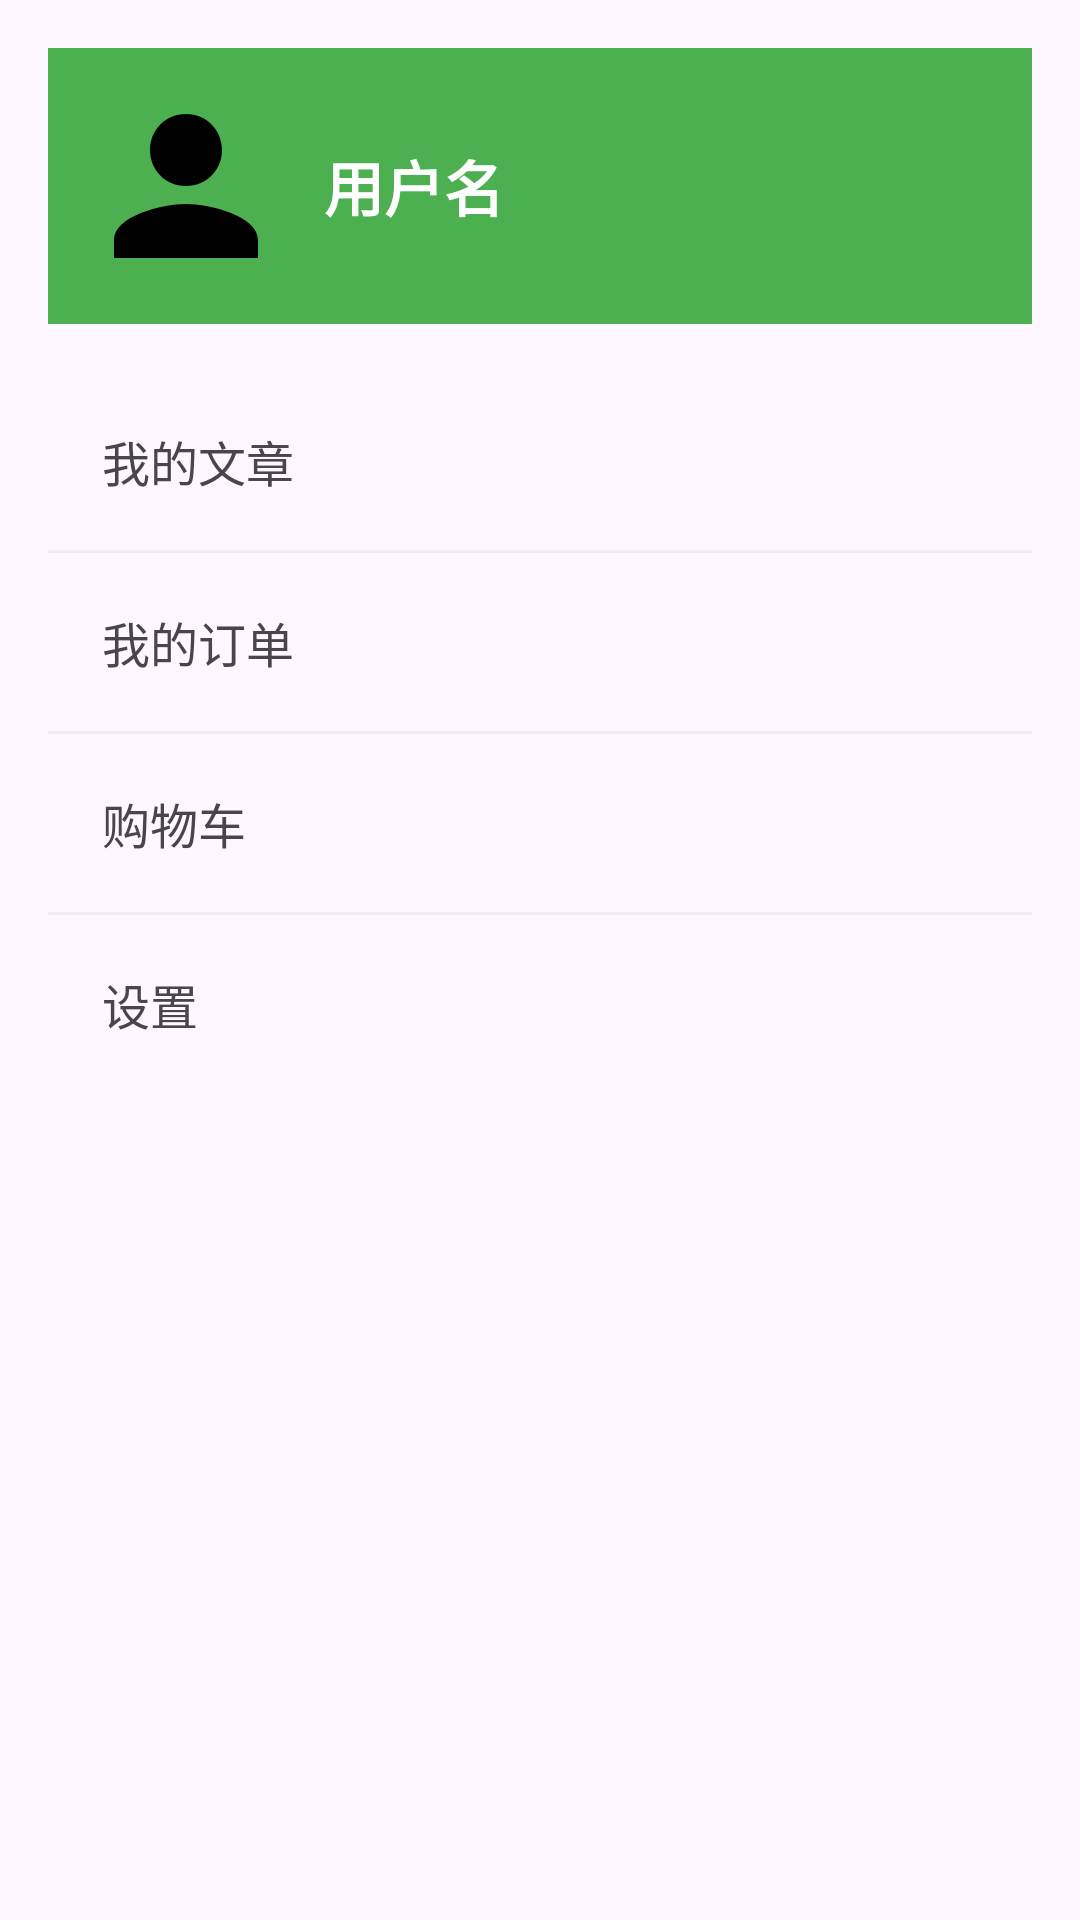

Screen size 1080w x 1920h. Icon name, then its center in pixels as (x,y):
mine: (186,186)
